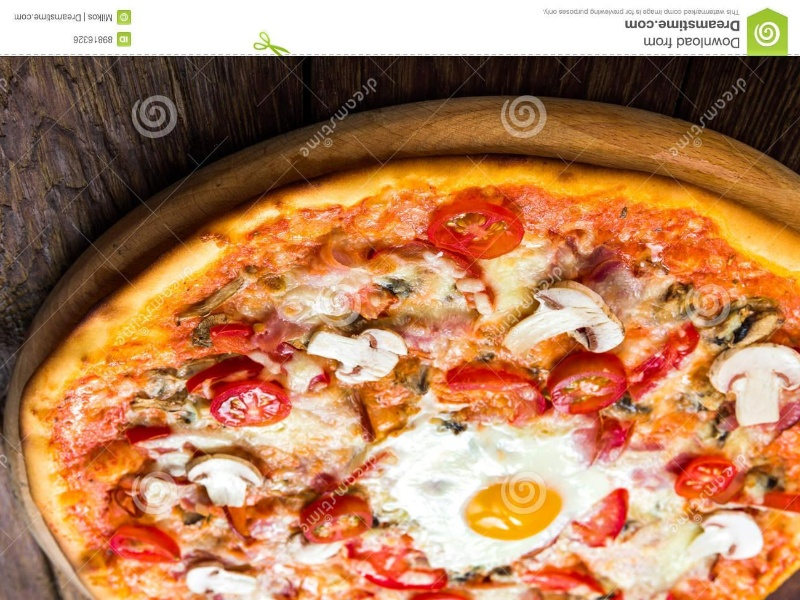champignon: (497, 275, 633, 365), (700, 338, 800, 434), (300, 317, 421, 391), (177, 449, 276, 515), (679, 503, 775, 569)
oeuf: (426, 449, 586, 549)
